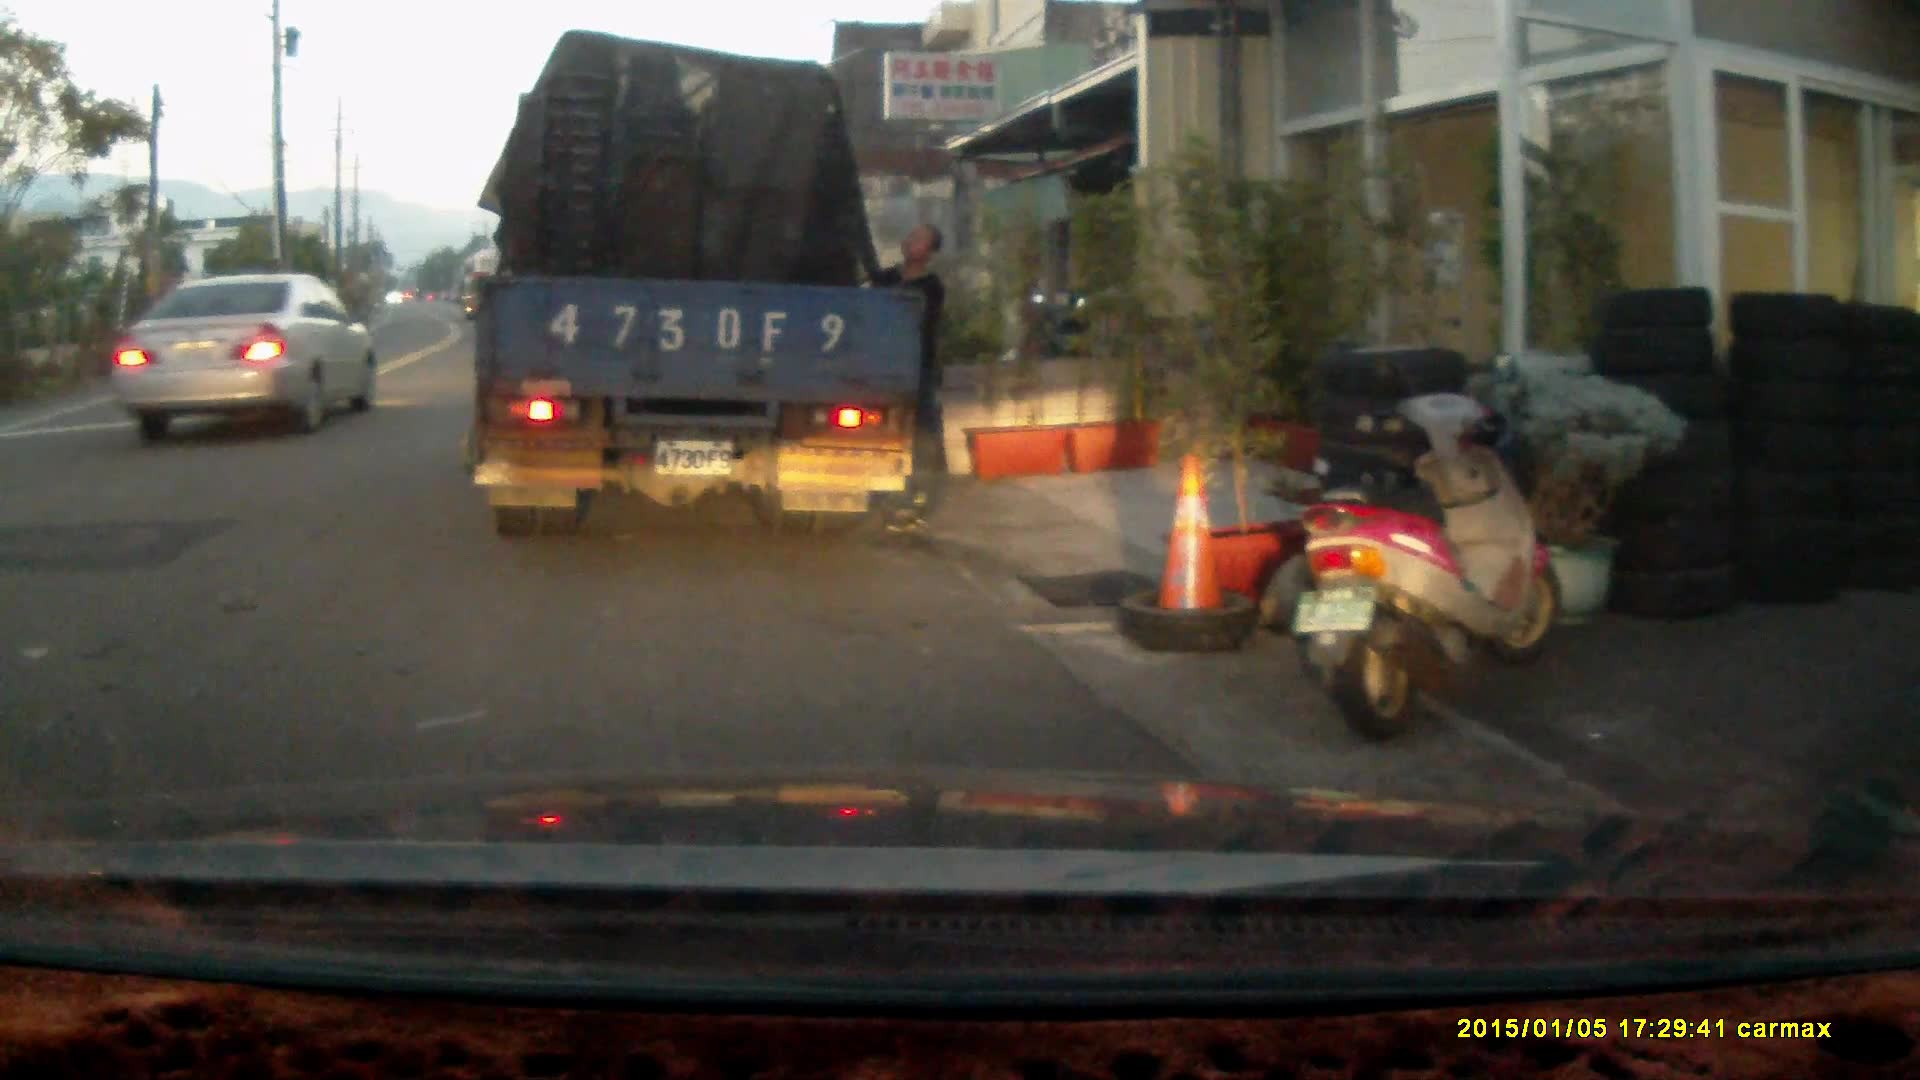pedestrian: (867, 223, 950, 534)
vehicle: (483, 36, 937, 535), (107, 272, 377, 440)
